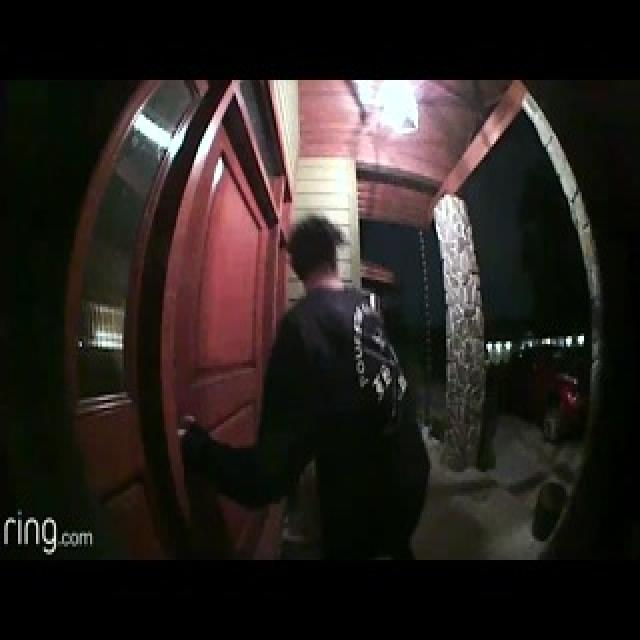thief: (257, 162, 403, 376)
